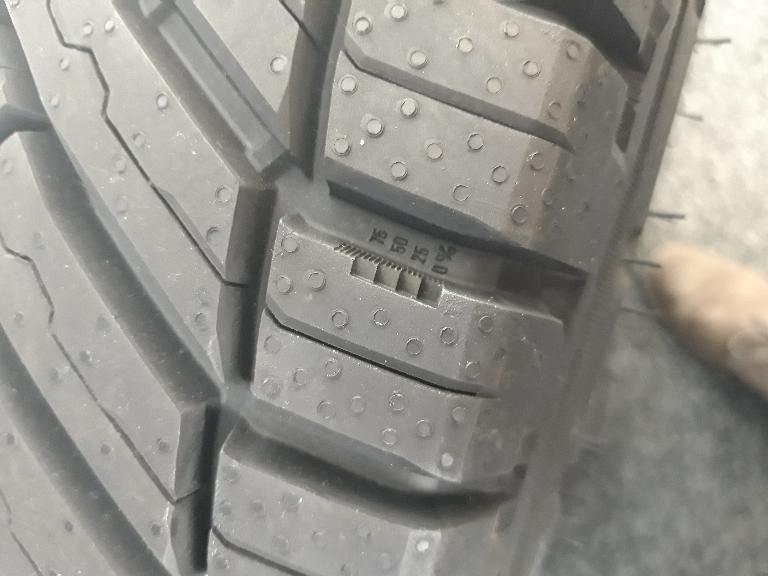temoin:100: (327, 238, 450, 314)
